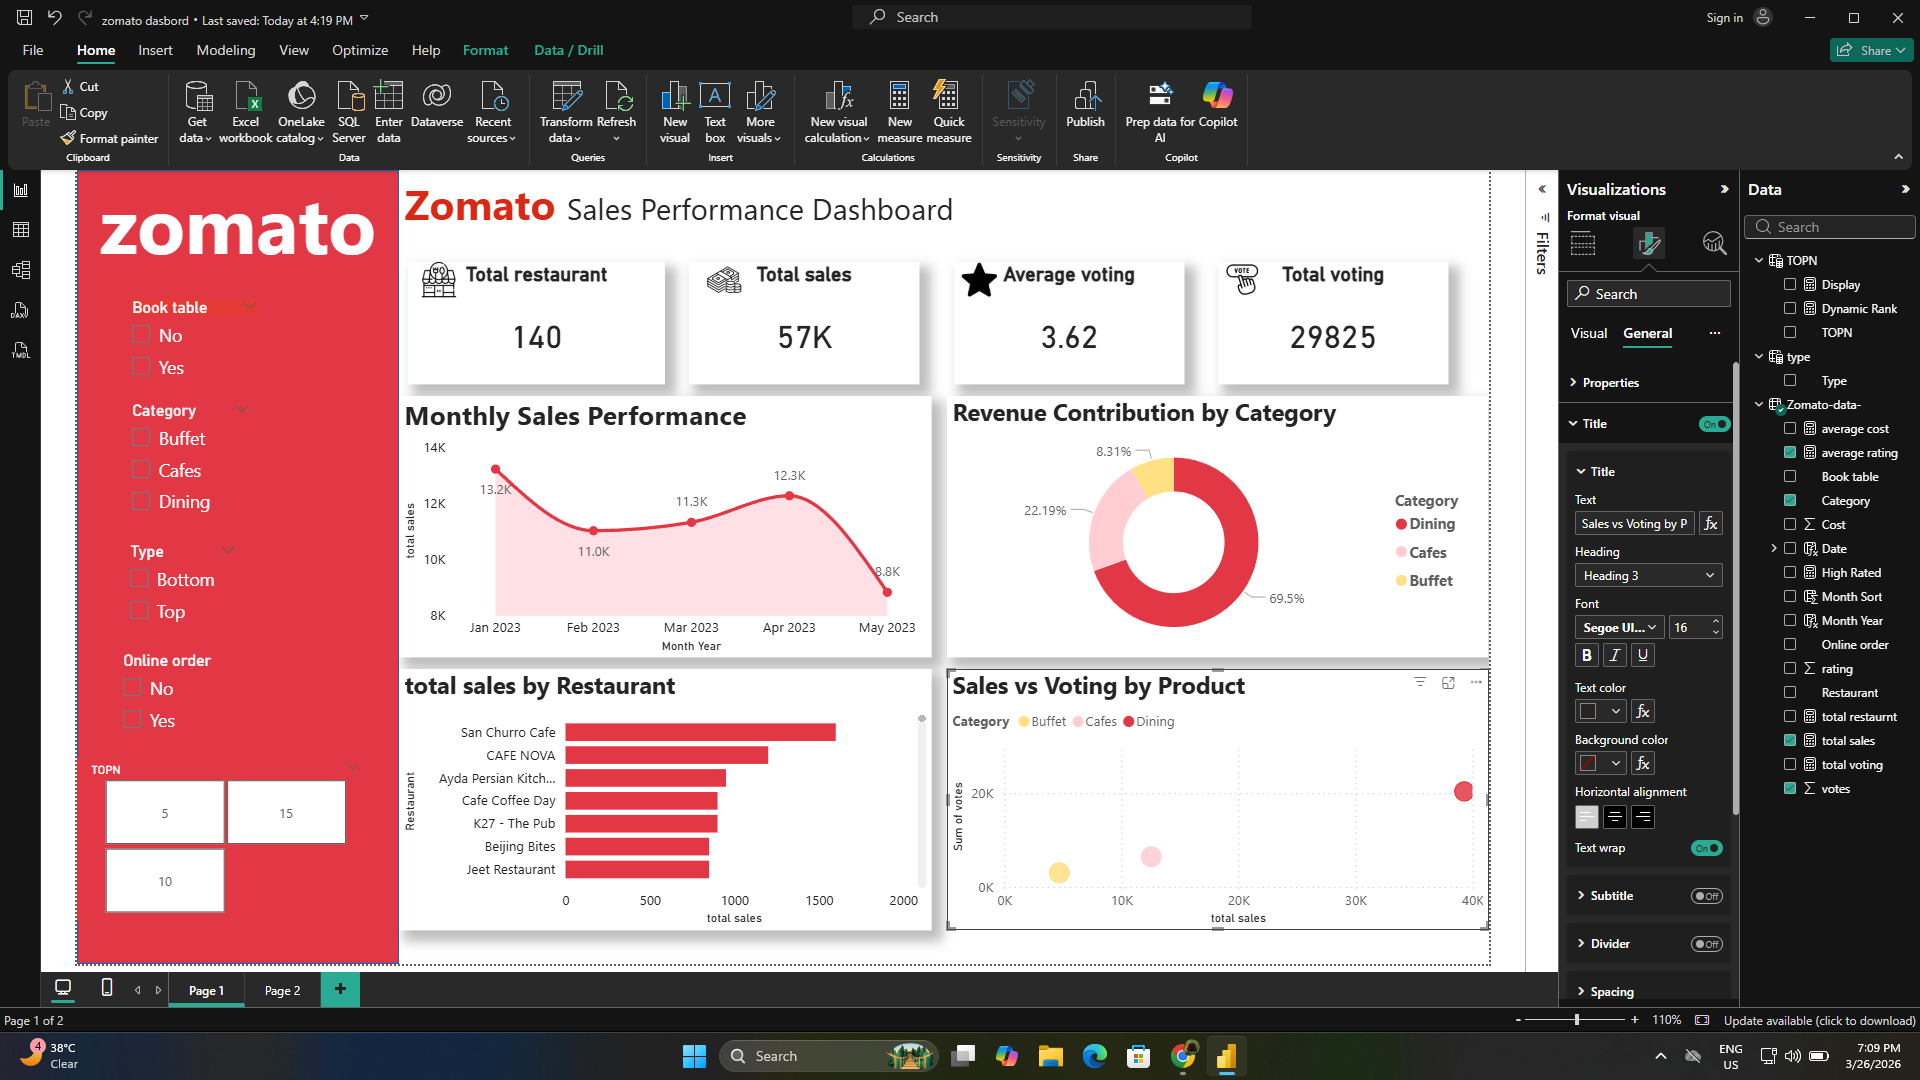

What the dashboard file says about the page in this screenshot:
{"tool":"powerbi","page":{"name":"Page 1","canvas":[1280,720],"ordinal":0},"visuals":[{"type":"textbox","box":[291.8,0,559.3,72],"z":0},{"type":"card","title":"Total restaurant","fields":{"Values":["Zomato-data-.total restaurnt"]},"box":[300.5,83.6,233.4,110.9],"z":1000},{"type":"image","box":[300.5,83.6,55.4,32.1],"z":2000},{"type":"card","title":"Total sales ","fields":{"Values":["Zomato-data-.total sales"]},"box":[555.4,83.6,209.1,110.9],"z":3000},{"type":"image","box":[555.4,83.6,63.2,32.1],"z":4000},{"type":"card","title":"Average voting ","fields":{"Values":["Zomato-data-.average rating"]},"box":[795.6,83.6,209.1,110.9],"z":5000},{"type":"card","title":"Total voting ","fields":{"Values":["Zomato-data-.total voting"]},"box":[1034.9,83.6,209.1,110.9],"z":6000},{"type":"image","box":[795.6,83.6,46.7,32.1],"z":7000},{"type":"image","box":[1034.9,83.6,43.8,32.1],"z":8000},{"type":"areaChart","title":"Monthly Sales Performance","fields":{"Category":["Zomato-data-.Month Year"],"Y":["Zomato-data-.total sales"]},"box":[291.8,205.2,483.4,237.3],"z":9000},{"type":"donutChart","title":"Revenue Contribution by Category ","fields":{"Category":["Zomato-data-.Category"],"Y":["Zomato-data-.total sales"]},"box":[788.8,205.2,491.2,237.3],"z":10000},{"type":"barChart","fields":{"Category":["Zomato-data-.Restaurant"],"Y":["Zomato-data-.total sales"]},"box":[292,452.5,483.3,236.7],"z":11000},{"type":"shape","box":[0,0,292,720],"z":12000},{"type":"slicer","fields":{"Values":["Zomato-data-.Book table"]},"box":[37.2,111.5,138.7,93.4],"z":13000},{"type":"slicer","fields":{"Values":["Zomato-data-.Category"]},"box":[37.2,204.9,131.5,118.8],"z":14000},{"type":"slicer","fields":{"Values":["Zomato-data-.Online order"]},"box":[29,431.6,139.6,94.3],"z":15000},{"type":"slicer","fields":{"Values":["type.Type"]},"box":[35.4,332.8,120.6,98.8],"z":16000},{"type":"slicer","fields":{"Values":["TOPN.TOPN"]},"box":[0,532.3,267.5,147.8],"z":17000},{"type":"scatterChart","title":"Sales vs Voting by Product","fields":{"Series":["Zomato-data-.Category"],"X":["Zomato-data-.total sales"],"Y":["Sum(Zomato-data-.votes)"],"Size":["Zomato-data-.average rating"]},"box":[788.9,452.5,491.5,236.7],"z":18000}]}

Visuals, with their boxes on the page's 1280x720 design canvas (x1, y1, x2, y2). These are canvas units, not pixel positions in the 1920x1080 screenshot, which may show the page scaled, cropped or inside an application window:
textbox: <region>292, 0, 851, 72</region>
"Total restaurant" card: <region>300, 84, 534, 194</region>
image: <region>300, 84, 356, 116</region>
"Total sales " card: <region>555, 84, 764, 194</region>
image: <region>555, 84, 619, 116</region>
"Average voting " card: <region>796, 84, 1005, 194</region>
"Total voting " card: <region>1035, 84, 1244, 194</region>
image: <region>796, 84, 842, 116</region>
image: <region>1035, 84, 1079, 116</region>
"Monthly Sales Performance" areaChart: <region>292, 205, 775, 442</region>
"Revenue Contribution by Category " donutChart: <region>789, 205, 1280, 442</region>
barChart - Zomato-data-.Restaurant x Zomato-data-.total sales: <region>292, 452, 775, 689</region>
shape: <region>0, 0, 292, 720</region>
slicer - Zomato-data-.Book table: <region>37, 112, 176, 205</region>
slicer - Zomato-data-.Category: <region>37, 205, 169, 324</region>
slicer - Zomato-data-.Online order: <region>29, 432, 169, 526</region>
slicer - type.Type: <region>35, 333, 156, 432</region>
slicer - TOPN.TOPN: <region>0, 532, 268, 680</region>
"Sales vs Voting by Product" scatterChart: <region>789, 452, 1280, 689</region>
